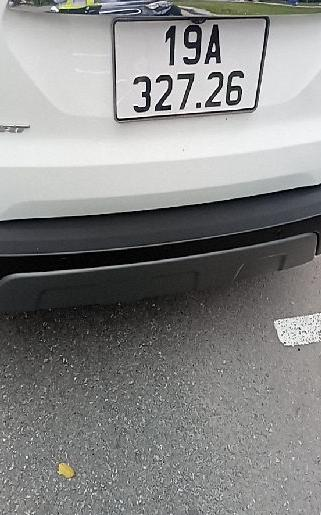Plate-iWeP: (107, 12, 271, 125)
